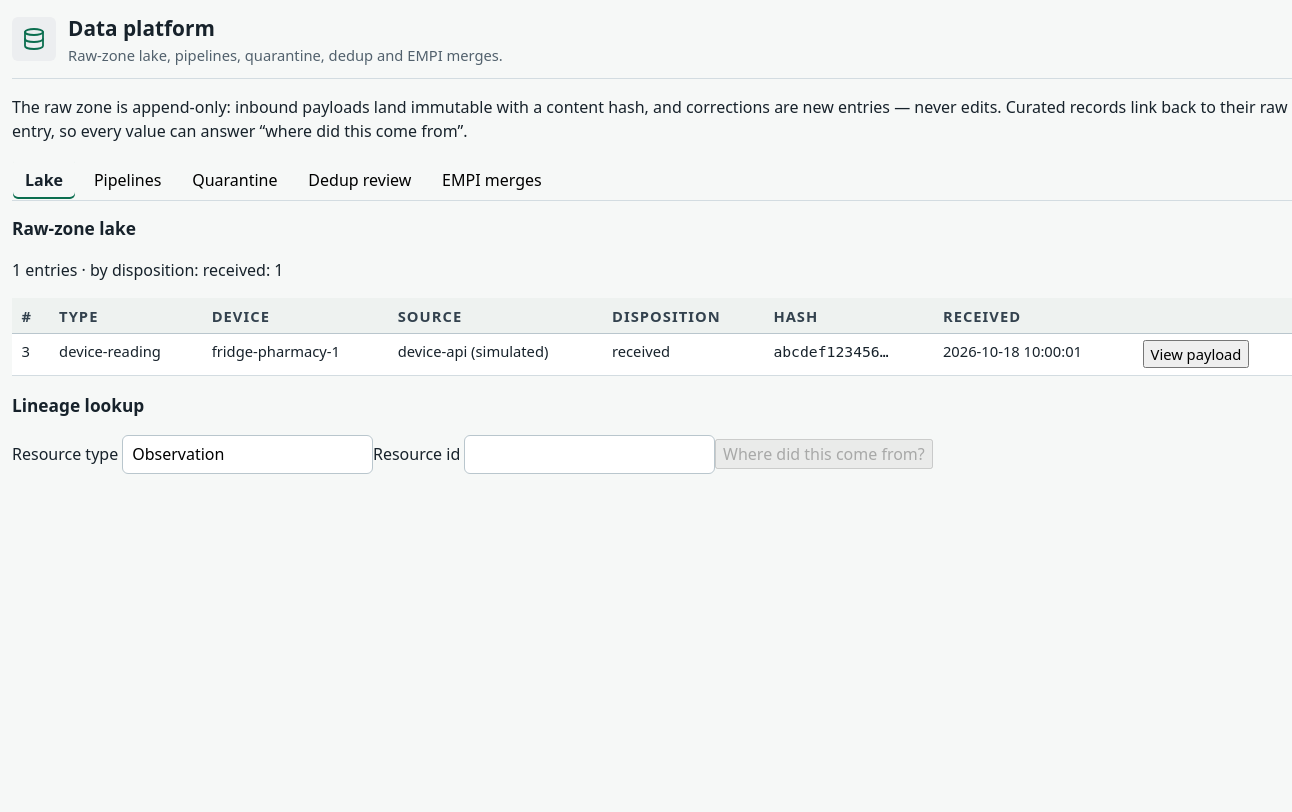
Test: DataPlatformPage › hides run/review actions from the clinician (pipelines.run is admin/configurator)
Depth-pass Tabs rollout: each surface is checked in its tab.
Click the tab "Pipelines".
click(128, 180)  # box [81,159,174,200]
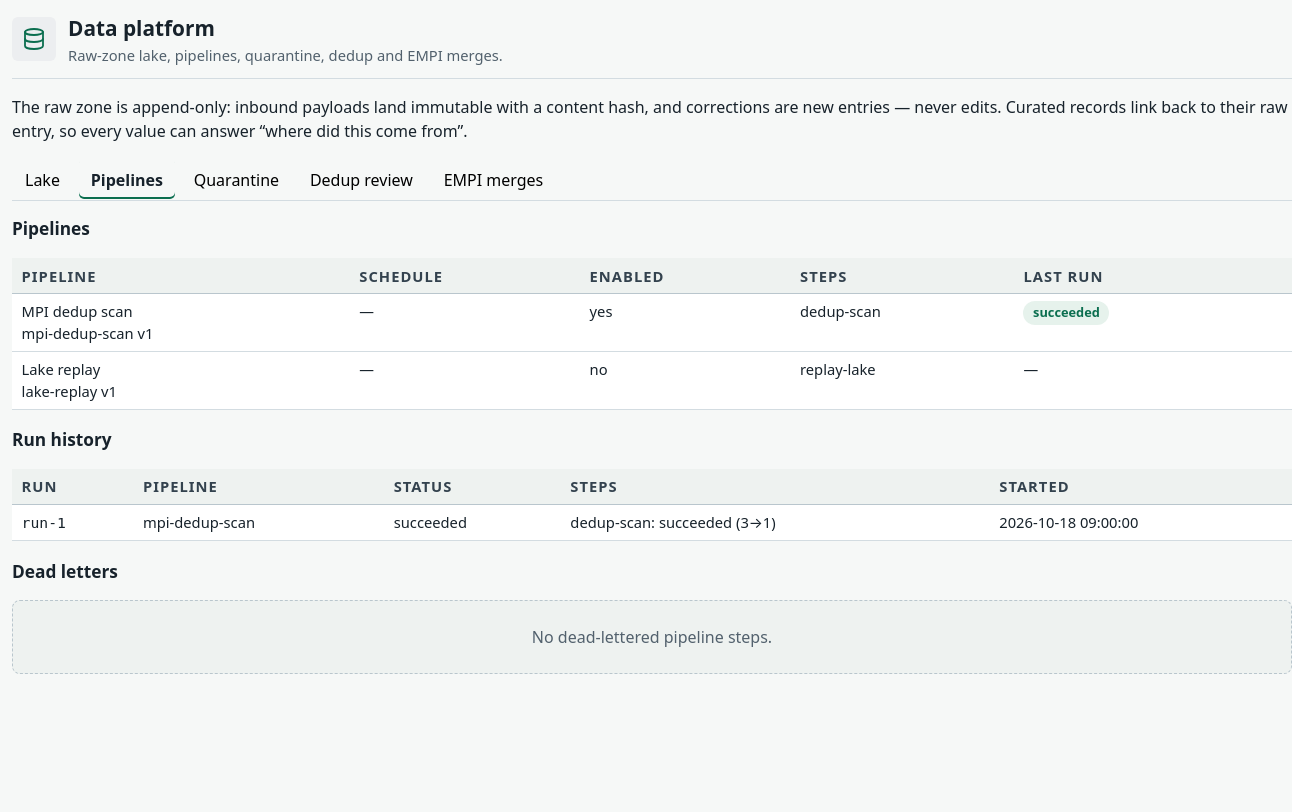
Expected: the text "MPI dedup scan" is shown, [22,301,132,321]
Click the tab "Dedup review".
click(361, 180)  # box [297,159,426,200]
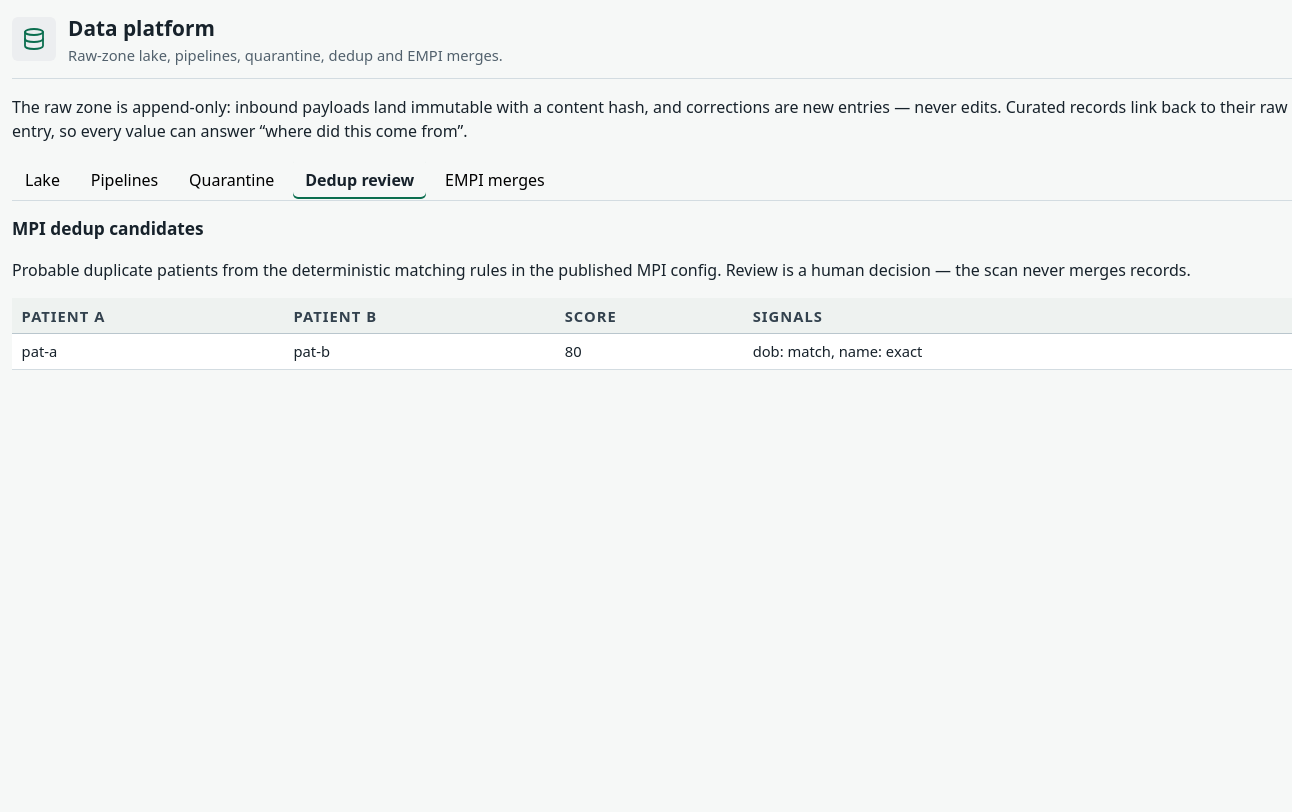
But quarantine release/reject (devices.manage) stays available.
Click the tab "Quarantine".
click(232, 180)  # box [176,159,287,200]
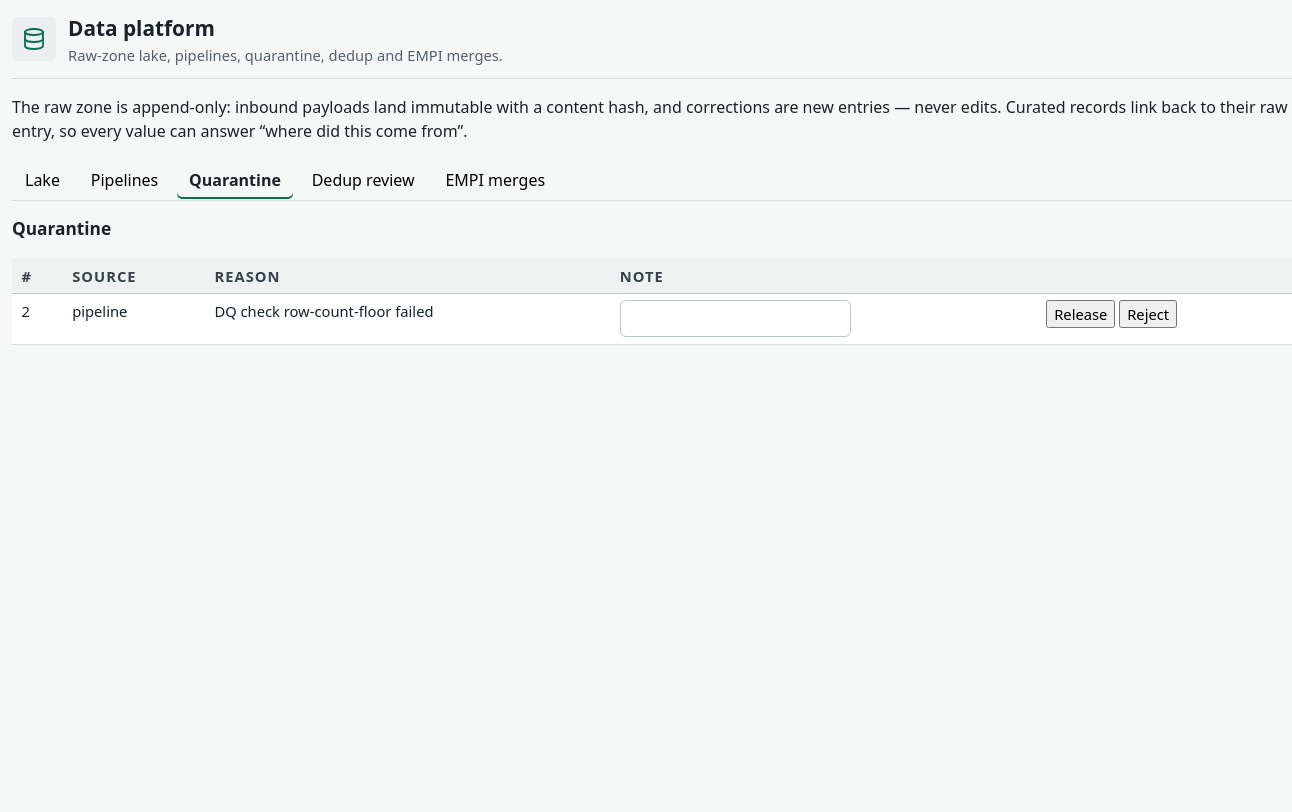
Expected: the button "Release" is shown, [1046,300,1115,328]
Expected: the button "Reject" is shown, [1119,300,1177,328]
